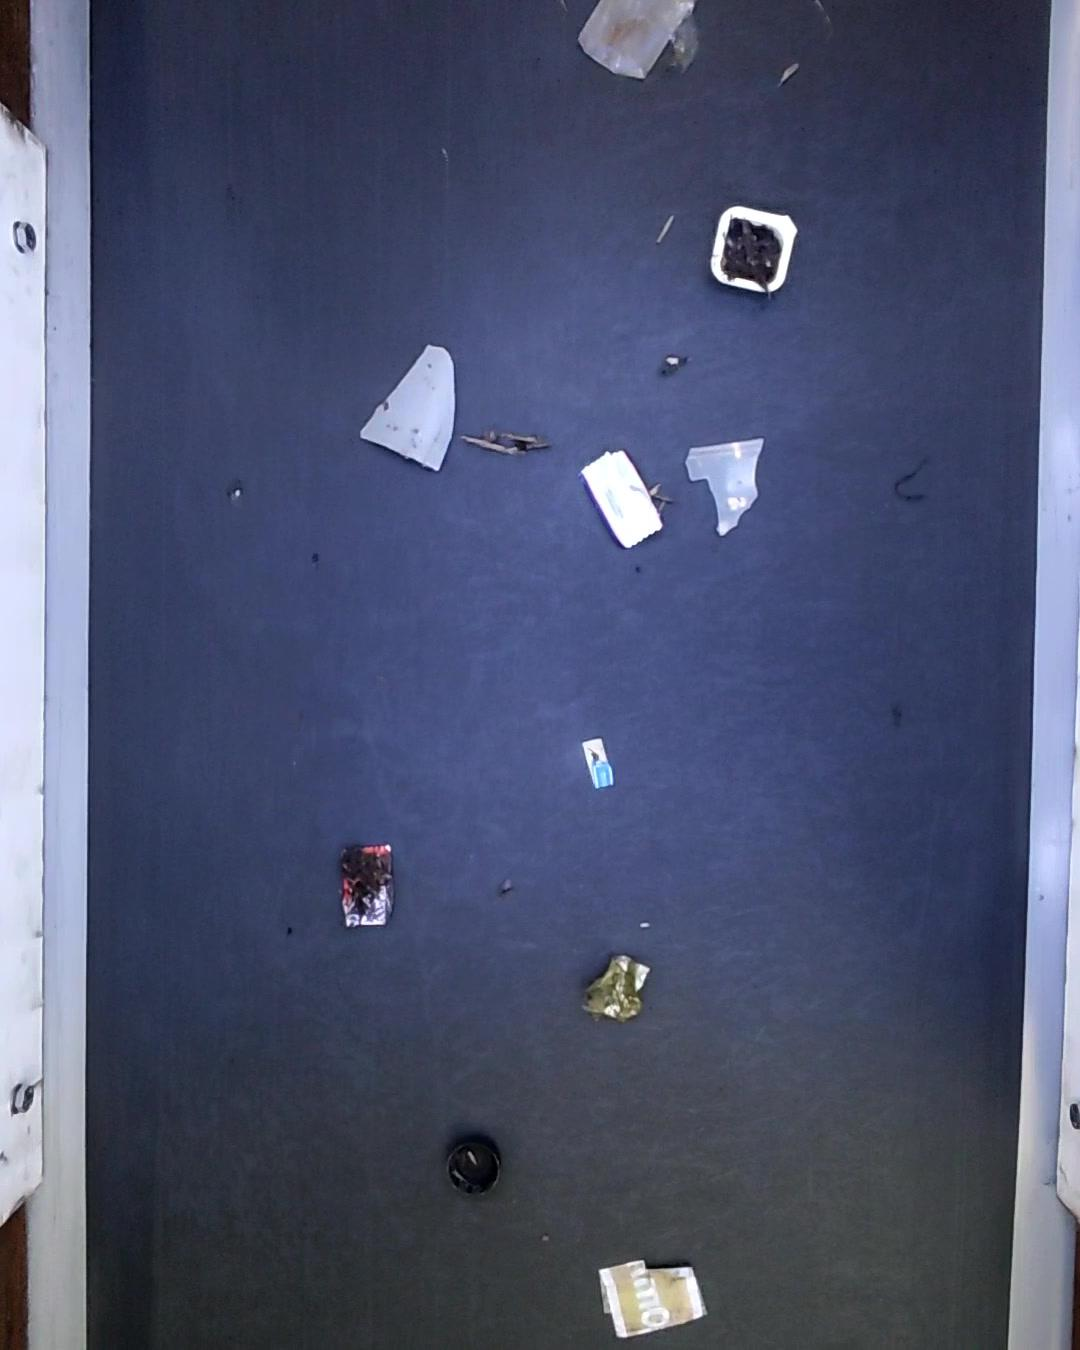Plastic folies of stukken daarvan 2.5- 50 cm: (571, 0, 696, 80), (585, 447, 661, 549)
Voedselverpakkingen: (710, 204, 799, 295)
